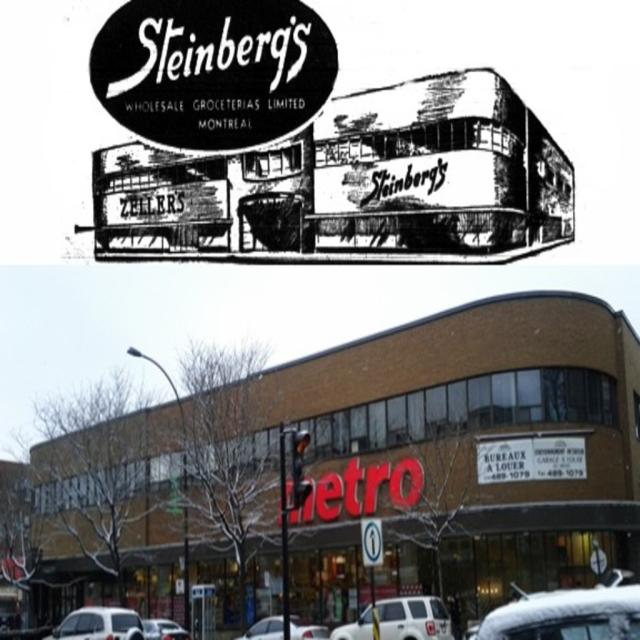car: (240, 612, 330, 637)
